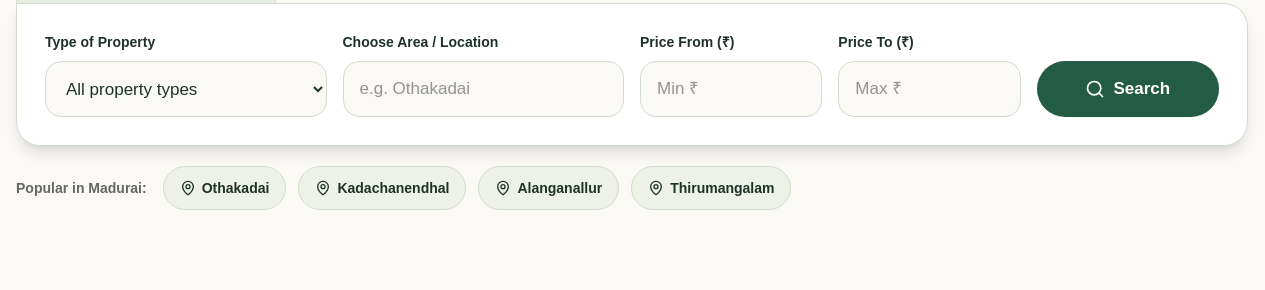
Test: Landnest formatting and accessible UI behavior › validates that minimum price cannot exceed maximum price in search
Type "2000000" into the number field labelled "Price From (₹)" at (731, 89), box [640, 61, 822, 117]
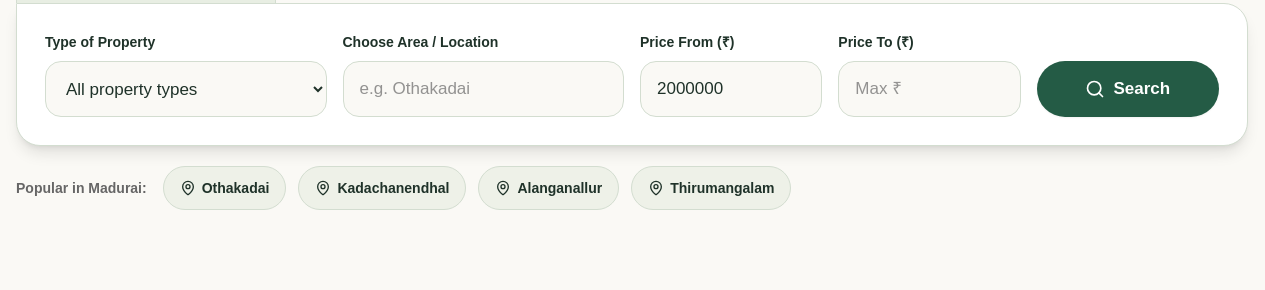
Type "500000" into the number field labelled "Price To (₹)" at (929, 89), box [838, 61, 1021, 117]
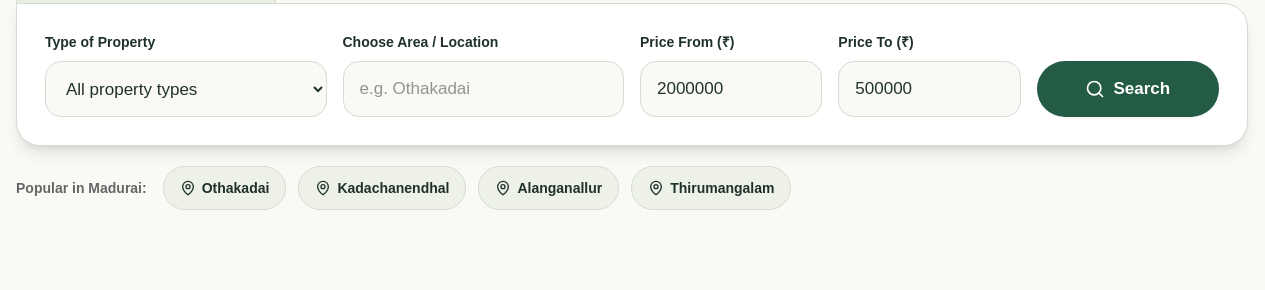
Click the button "Search" at (1128, 89), box [1037, 61, 1219, 117]
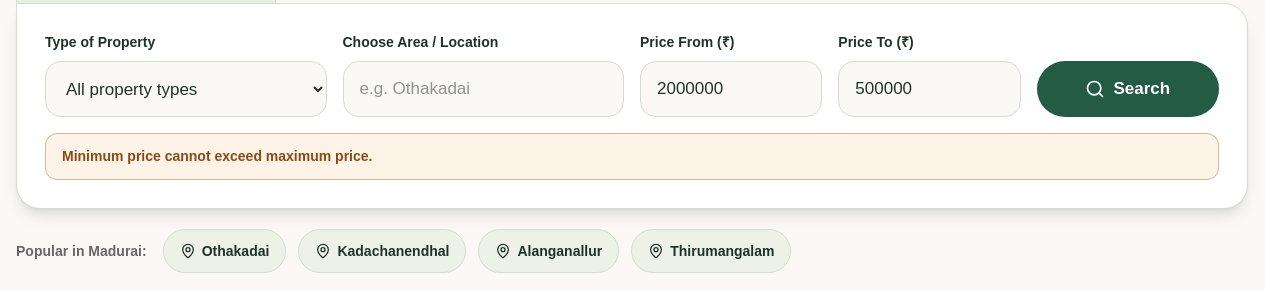
Check: the message shows "Minimum price cannot exceed maximum price", box [62, 148, 372, 164]
